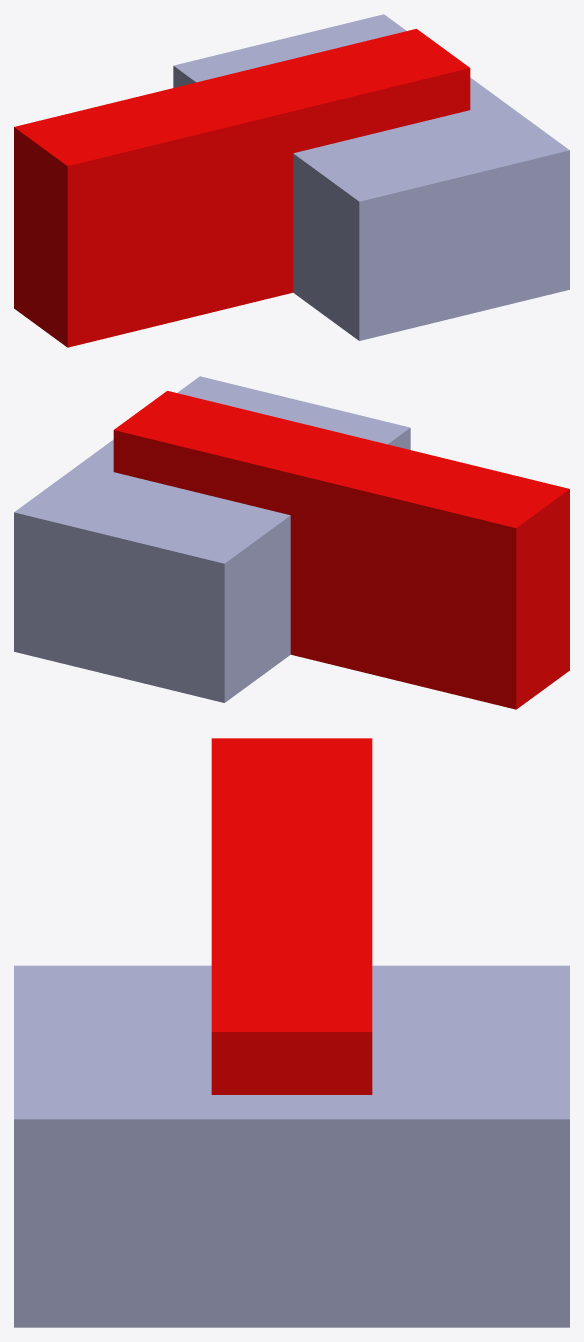
The model's file is teste.gltf.
The picture shows the model from 3 angles, top to bottom: view 1: azimuth 30°, elevation 25°; view 2: azimuth 150°, elevation 25°; view 3: azimuth 270°, elevation 25°; orthographic projection. The views are drawn at different scales.
Visible parts, largest first — view 1: Box002, Box001; view 2: Box002, Box001; view 3: Box001, Box002.
Part boxes in pixels (x1,y1,x2,y2): Box002: (14, 29, 470, 347); Box001: (173, 14, 569, 340); Box002: (113, 391, 569, 709); Box001: (14, 376, 410, 702); Box001: (14, 965, 569, 1327); Box002: (211, 738, 372, 1094).
Bounding box in the file's own units: 7.04 × 2.8 × 5.2.
